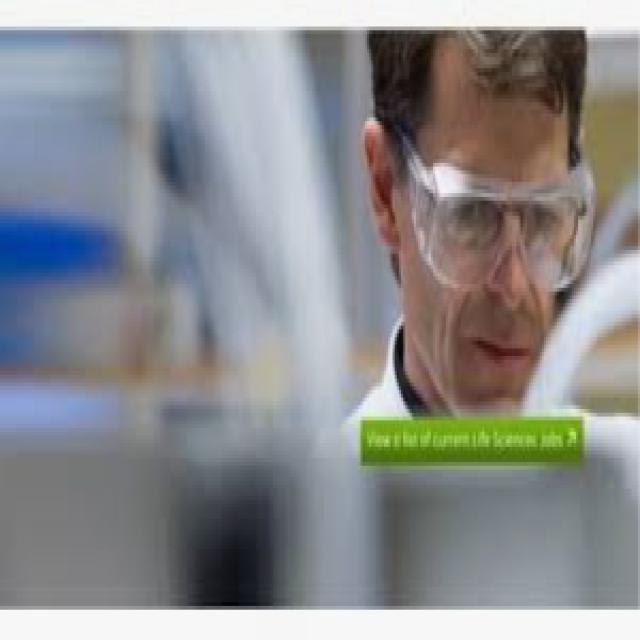glasses: (420, 162, 582, 308)
